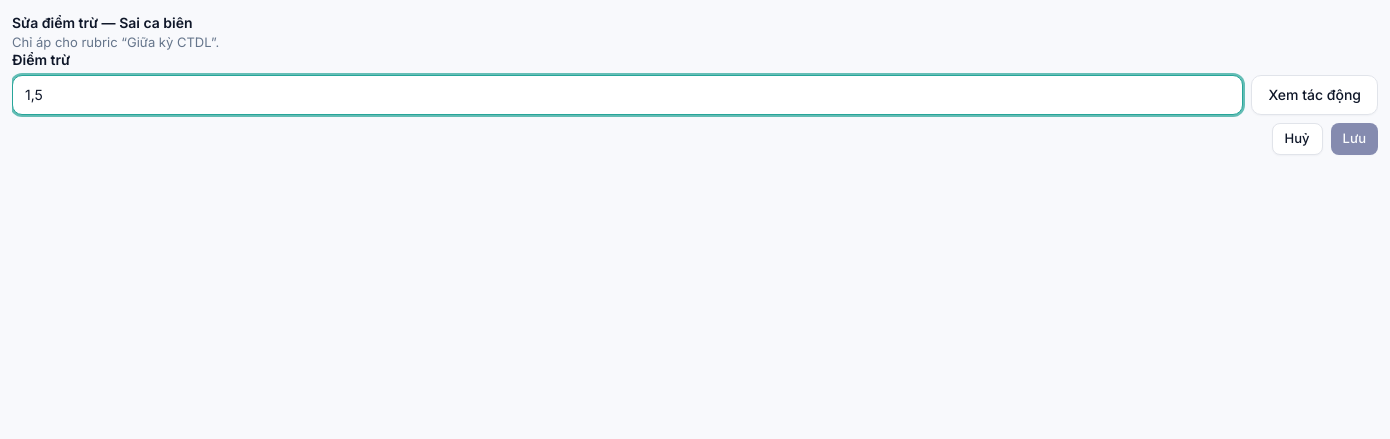
Test case: PricePopover (T-RBE-UI-4) › sau khi xem trước: nút lưu nói đúng số bài bị tính lại và bật lên
Click the button "Xem tác động" at (1315,94), box x1=1251 y1=74 x2=1378 y2=114
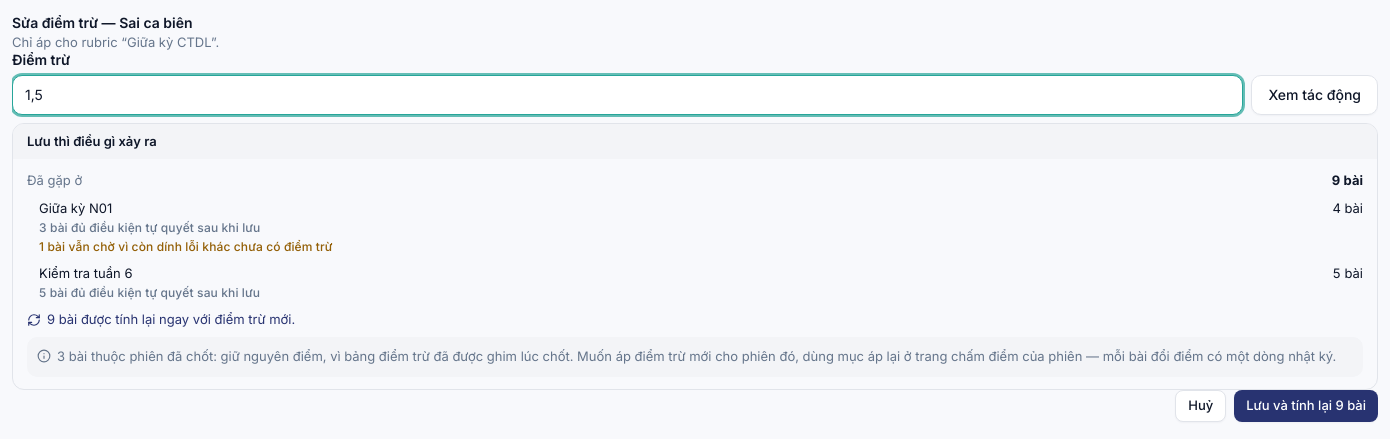
Expected: the button "Lưu và tính lại 9 bài" is enabled, x1=1234 y1=390 x2=1378 y2=422
